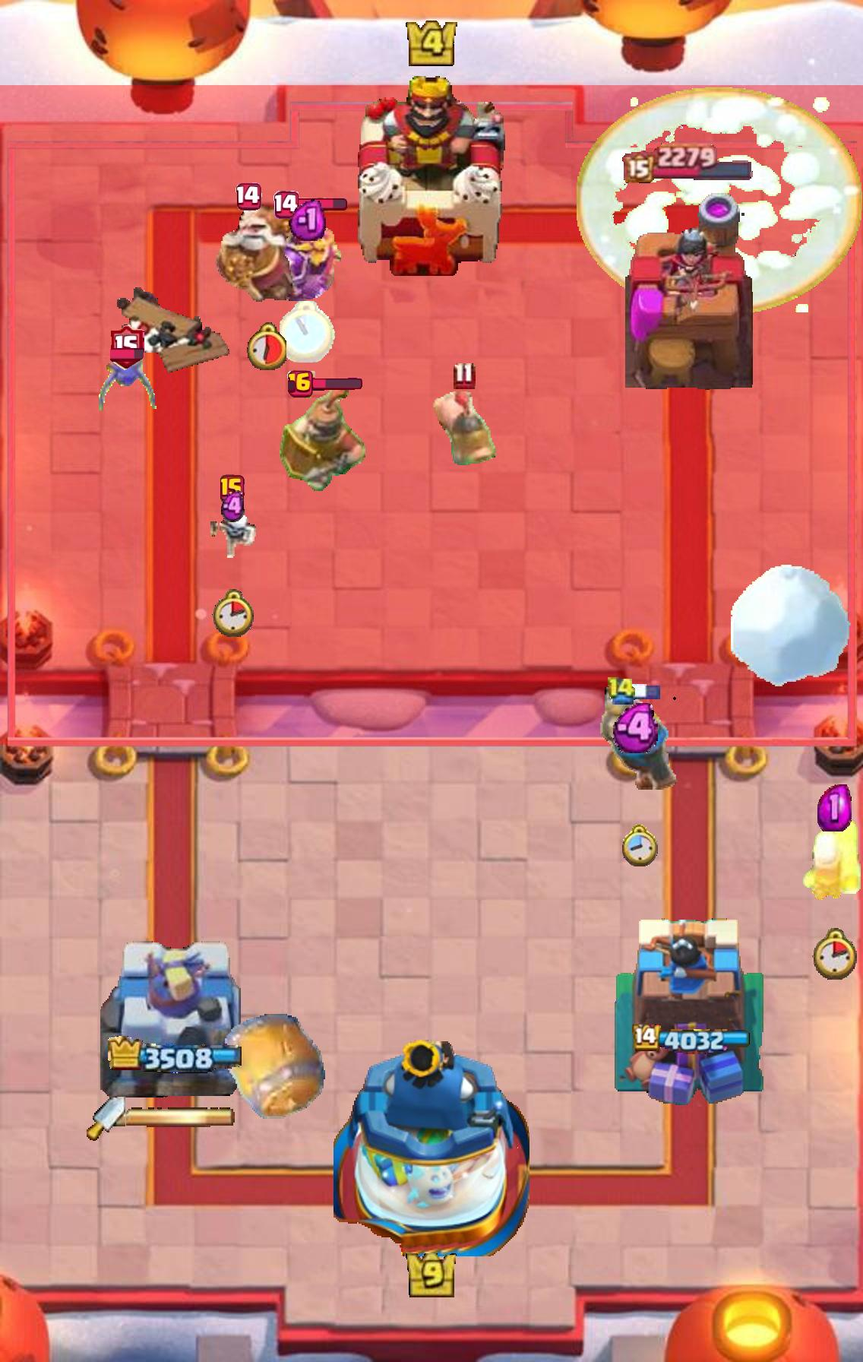bar: (296, 198, 347, 212), (311, 378, 362, 391)
bar-level: (111, 325, 145, 370), (287, 371, 315, 399), (236, 182, 262, 210), (273, 191, 299, 219), (220, 474, 245, 502), (453, 361, 476, 390)
